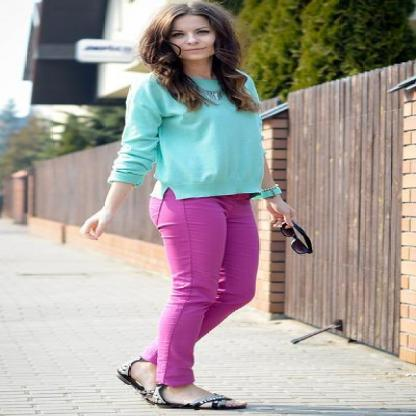jacket: (236, 69, 256, 91)
pants: (121, 192, 258, 390)
shirt: (107, 75, 286, 202)
shoe: (118, 358, 236, 409)
skirt: (287, 225, 312, 253)
